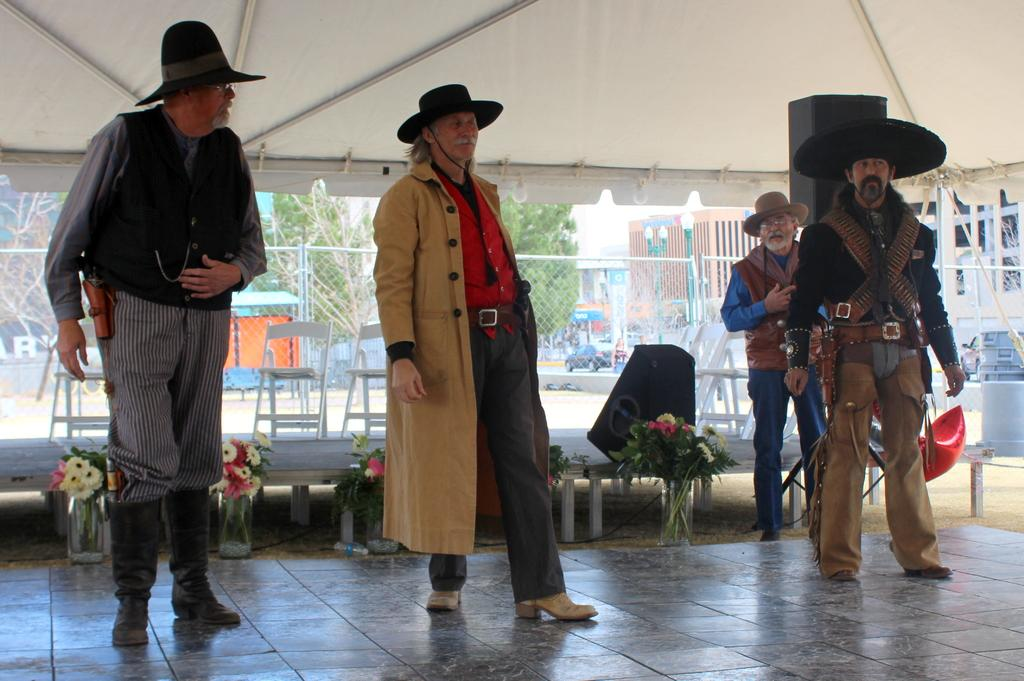Hat: (136, 20, 270, 108), (792, 114, 948, 186), (393, 81, 507, 171), (744, 190, 805, 237)
